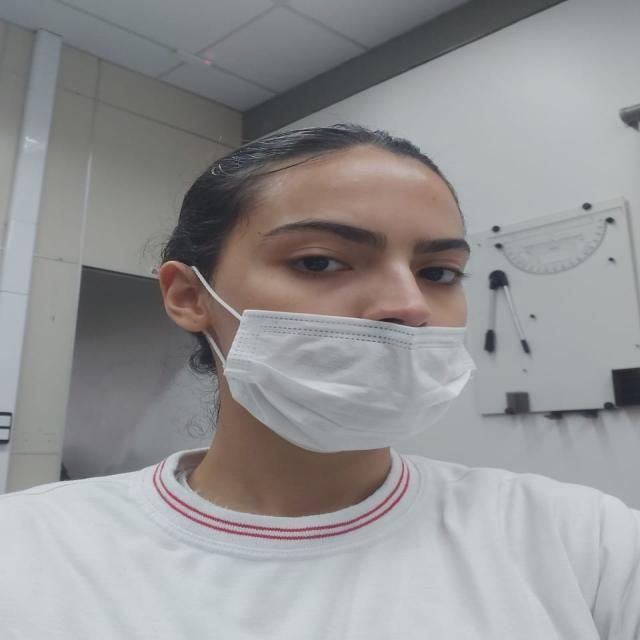hairnet: (213, 152, 492, 444)
